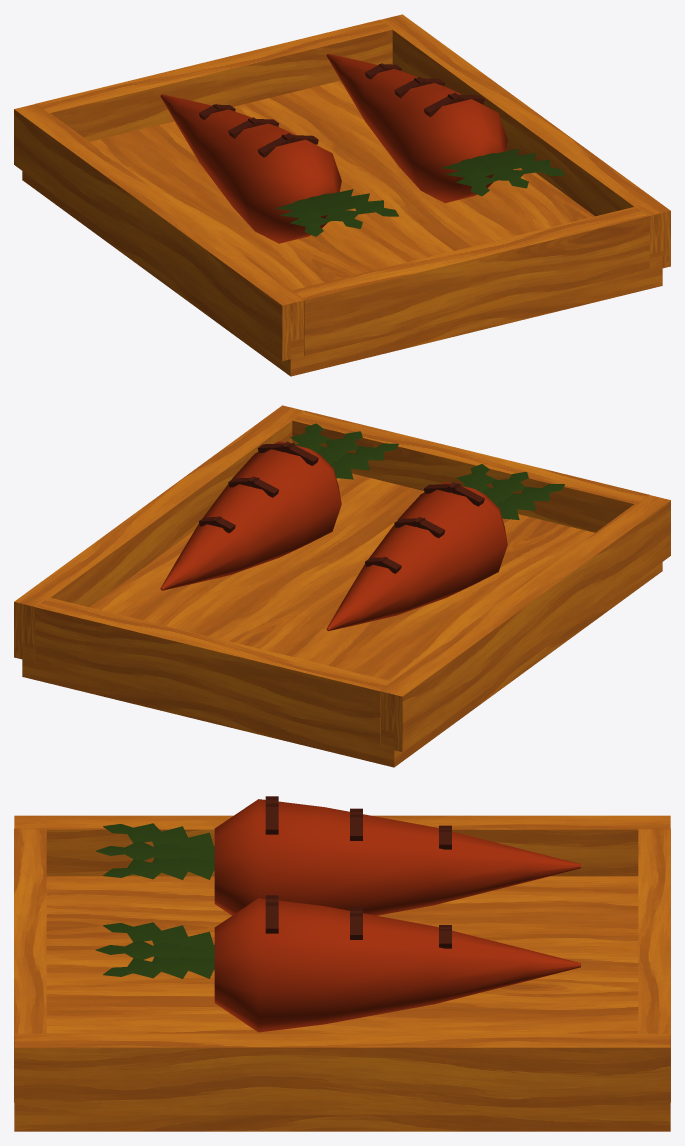
Rendered from pile-roastedCarrot-1.obj.
3 views of the same model, one above another, from view 1: azimuth 30°, elevation 25°; view 2: azimuth 150°, elevation 25°; view 3: azimuth 270°, elevation 25° (orthographic). The views are drawn at different scales.
Parts seen in each view (by area): view 1: pile-roastedCarrot-1; view 2: pile-roastedCarrot-1; view 3: pile-roastedCarrot-1.
Boxes of the visible parts, x1,y1,x2,y2 form: pile-roastedCarrot-1: (14,14,670,376); pile-roastedCarrot-1: (14,405,670,767); pile-roastedCarrot-1: (14,796,670,1131).
Bounding box in the file's own units: 0.2808 × 0.0956 × 0.3365.
Materials: 2 (2 with a texture image).
